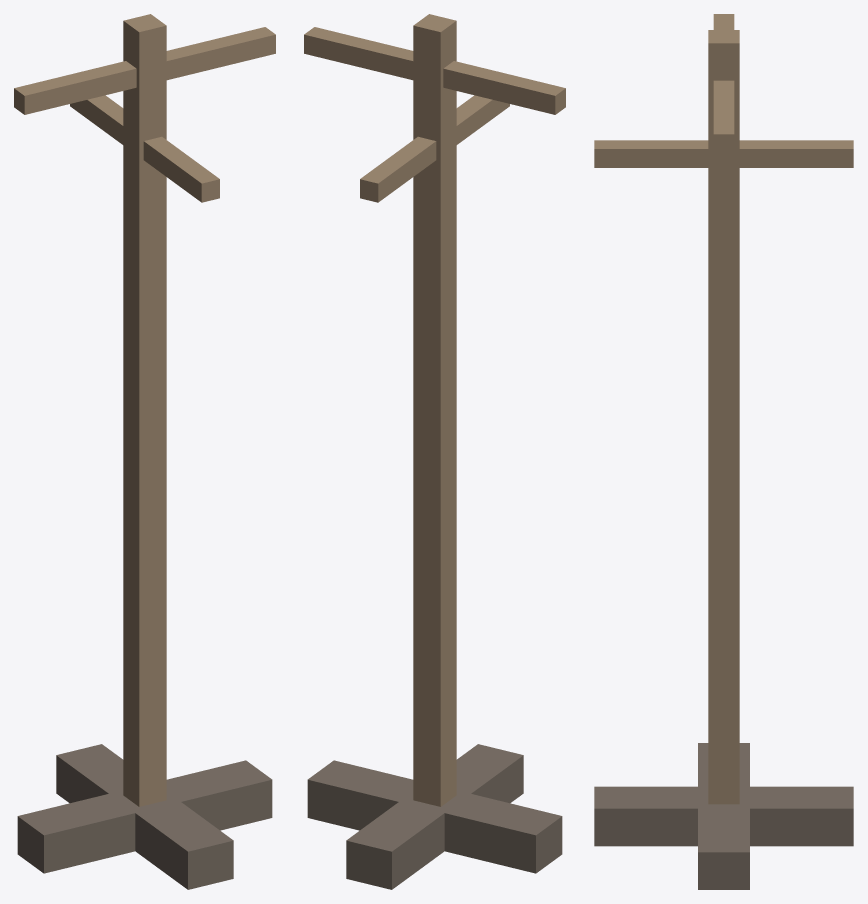
Rendered from coat_stand.glb.
3 views of the same model, side by side, from view 1: azimuth 30°, elevation 25°; view 2: azimuth 150°, elevation 25°; view 3: azimuth 270°, elevation 25° (orthographic).
Parts seen in each view (by area): view 1: body; view 2: body; view 3: body.
Part boxes in pixels (<box>): body: <box>14,14,275,889</box>; body: <box>304,14,565,889</box>; body: <box>594,14,853,889</box>.
Size of the model in its own units: 0.55 by 1.7 by 0.5.
